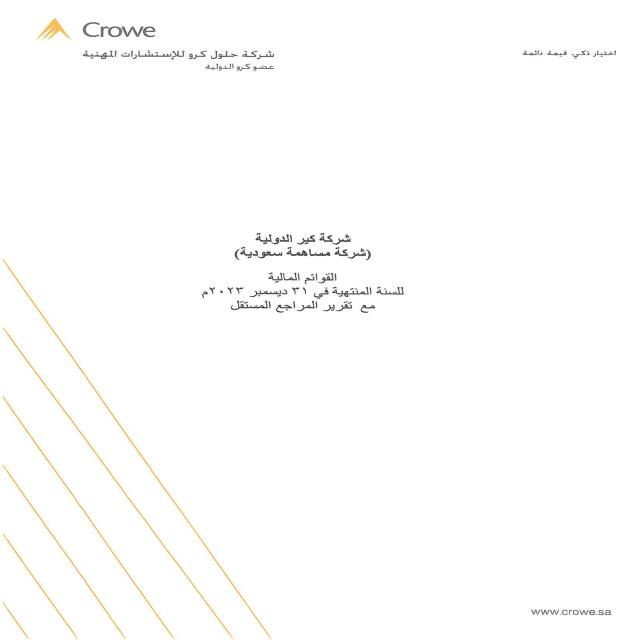other: (181, 212, 425, 347)
